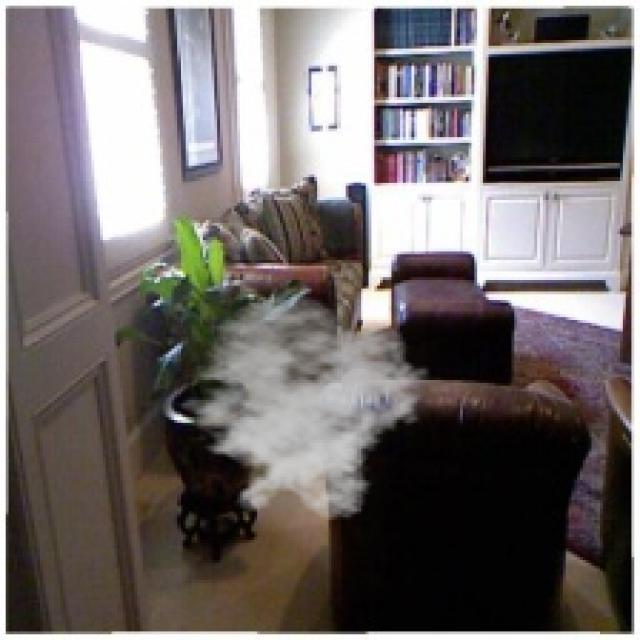smoke: (163, 294, 431, 523)
